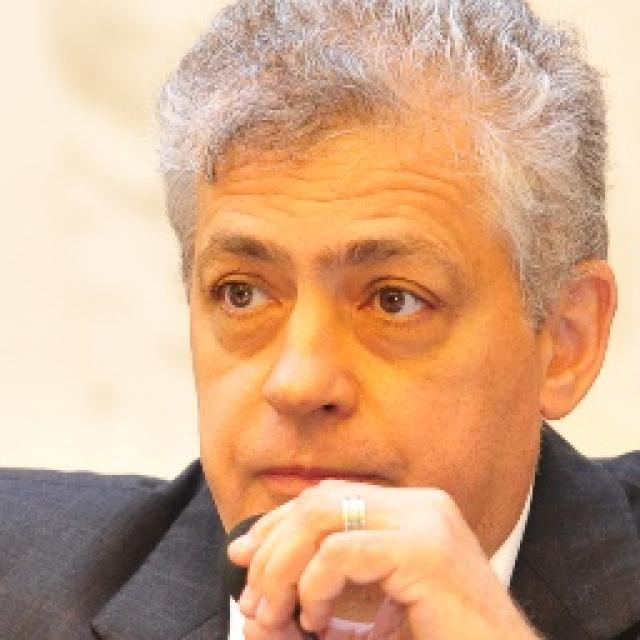earlobe: (541, 259, 620, 422)
